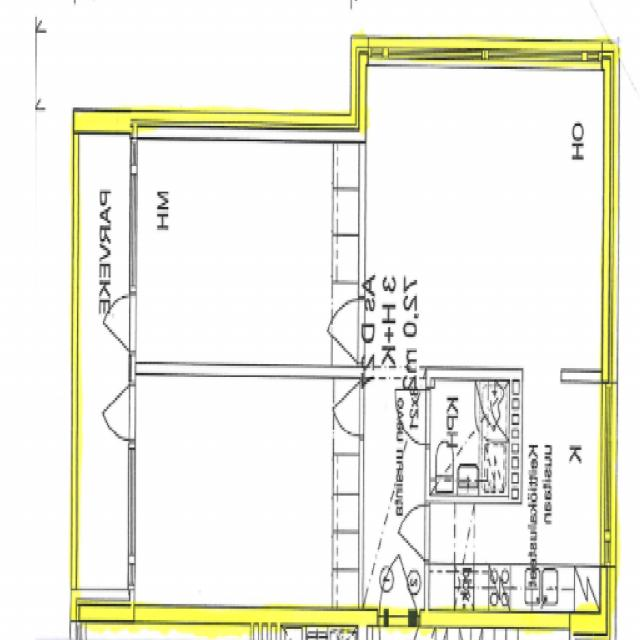door: (378, 532, 420, 624), (95, 290, 137, 354), (95, 378, 137, 440), (326, 300, 367, 361), (329, 379, 367, 437), (396, 505, 431, 559), (396, 390, 430, 444)
